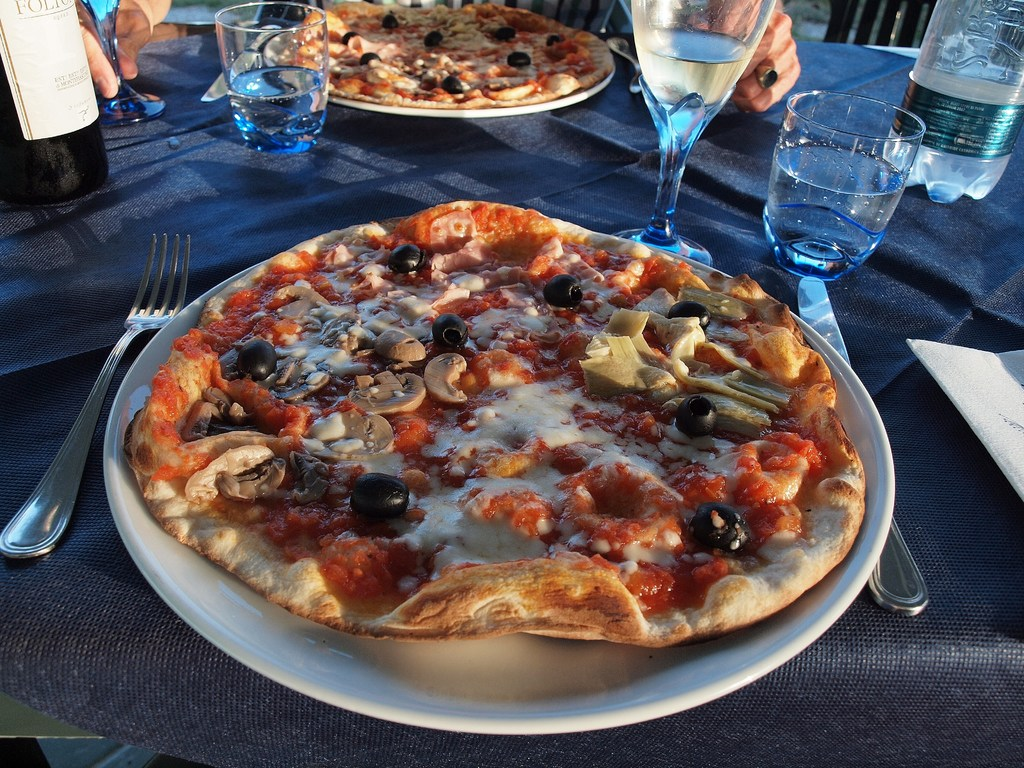Pizza: (120, 199, 868, 647), (295, 0, 612, 108)
